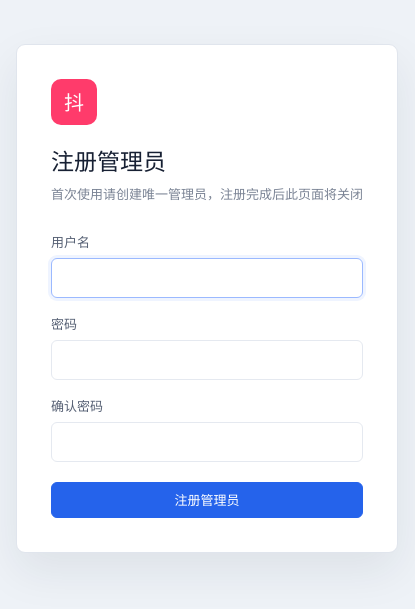
Test: administrator bootstrap UI › does not submit when password confirmation differs
In the field labelled "用户名": (207, 278) 51,258 -> 363,298, type "admin"
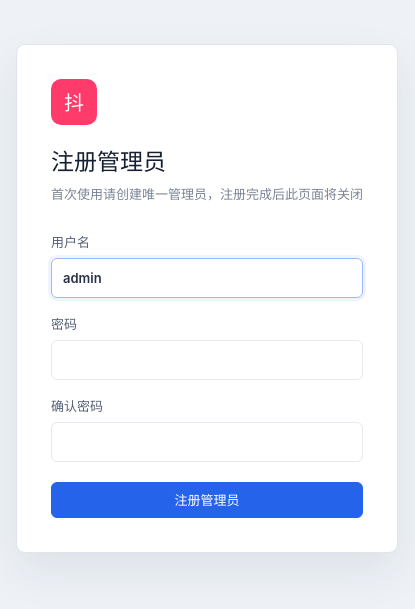
In the password field labelled "密码": (207, 360) 51,340 -> 363,380, type "a-long-admin-password"
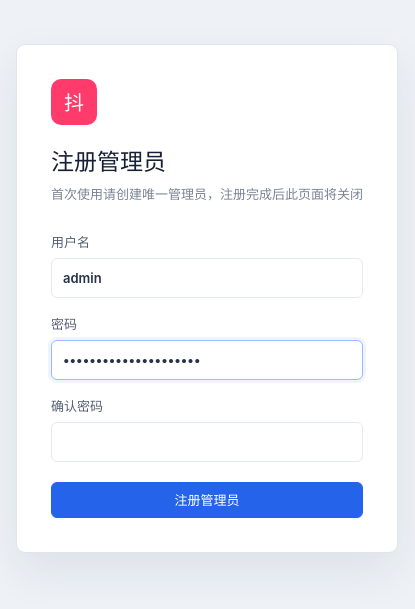
In the password field labelled "确认密码": (207, 442) 51,422 -> 363,462, type "different-long-password"
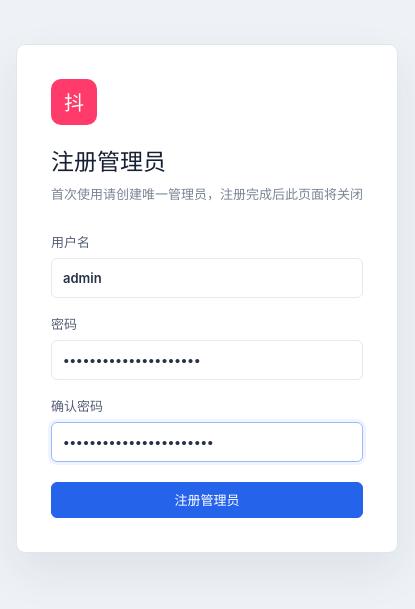
Click the button "注册管理员": (207, 500) 51,482 -> 363,518
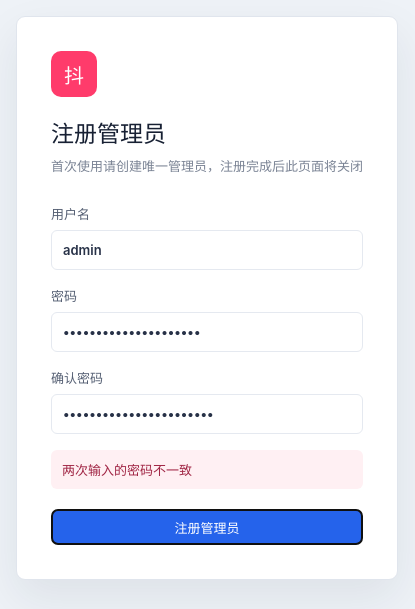
Check: the message reads "两次输入的密码不一致", box 62,462 -> 192,478
